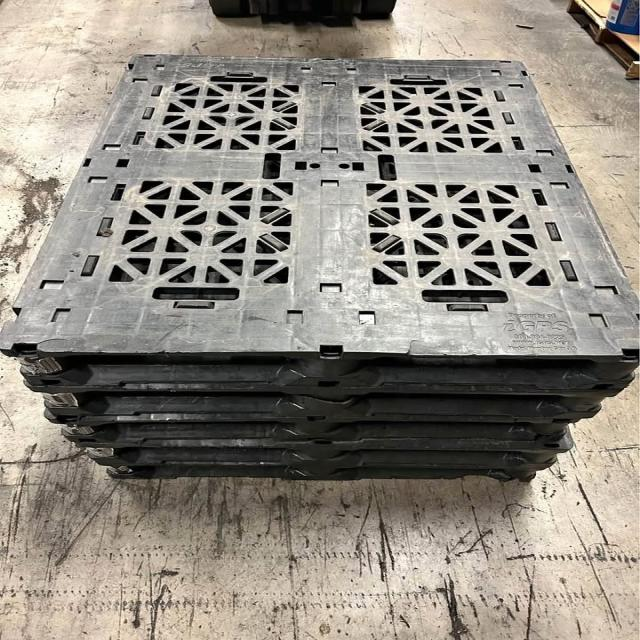igps: (0, 52, 639, 402), (40, 385, 606, 430), (55, 416, 572, 448), (81, 445, 560, 473), (105, 465, 540, 484)
